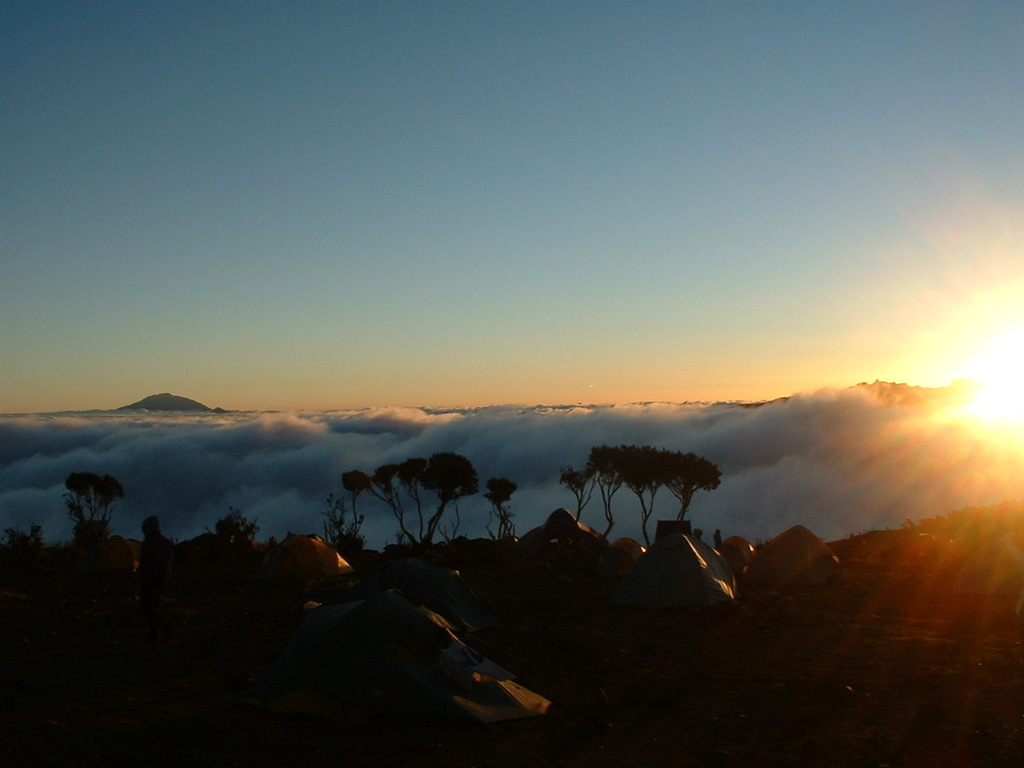Tree: (344, 447, 476, 543), (653, 451, 710, 517), (59, 471, 123, 522)
